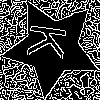K: (27, 22, 77, 62)
